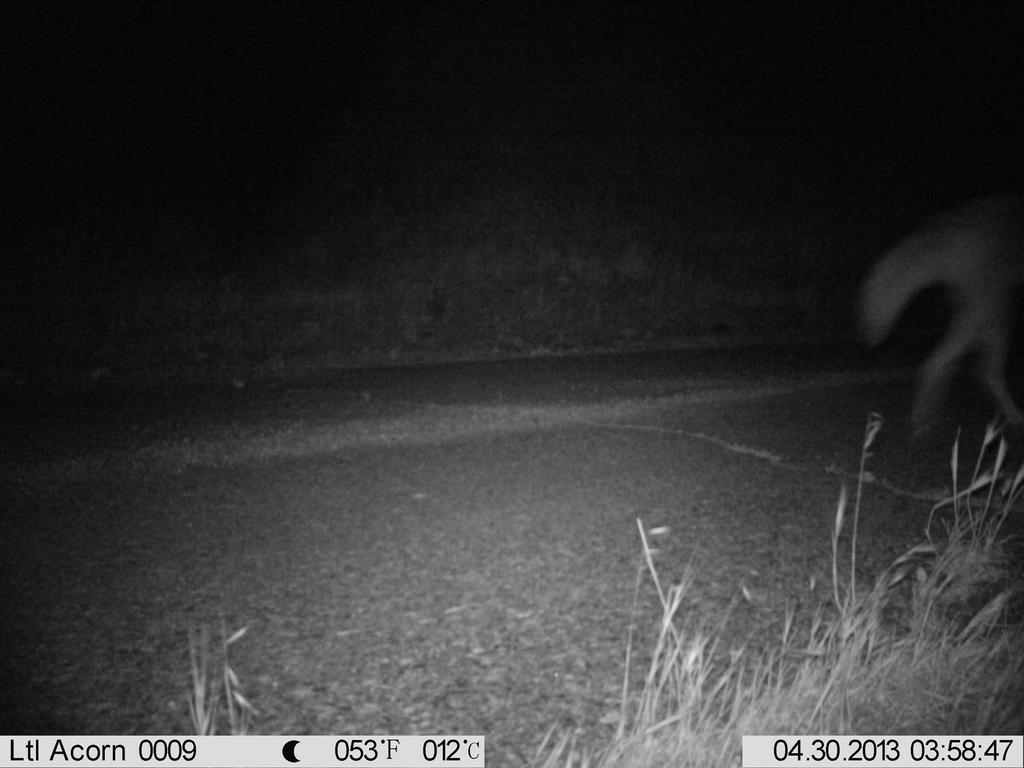coyote: (839, 161, 1023, 461)
